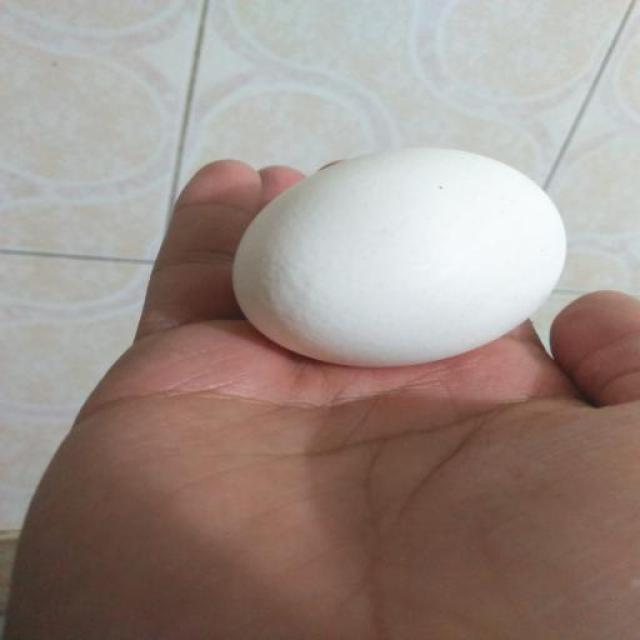telur: (235, 146, 569, 369)
